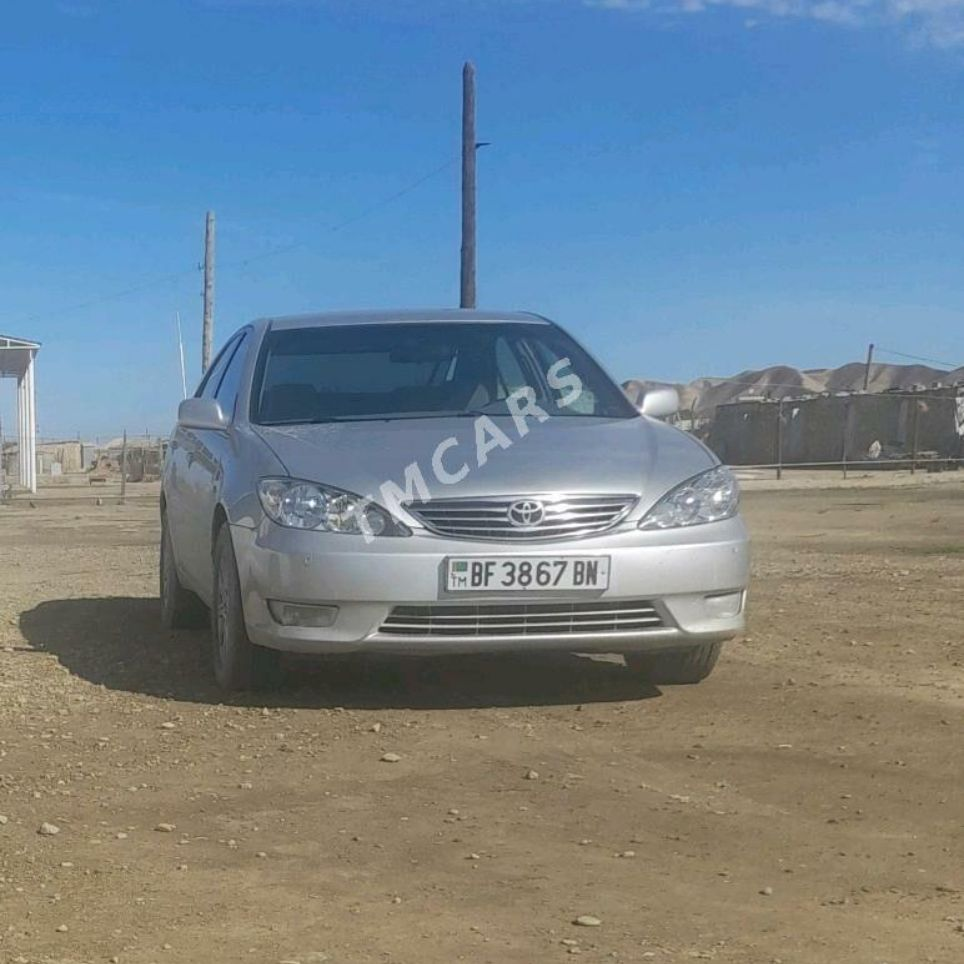license plate: (444, 556, 611, 591)
truck: (166, 309, 754, 693)
